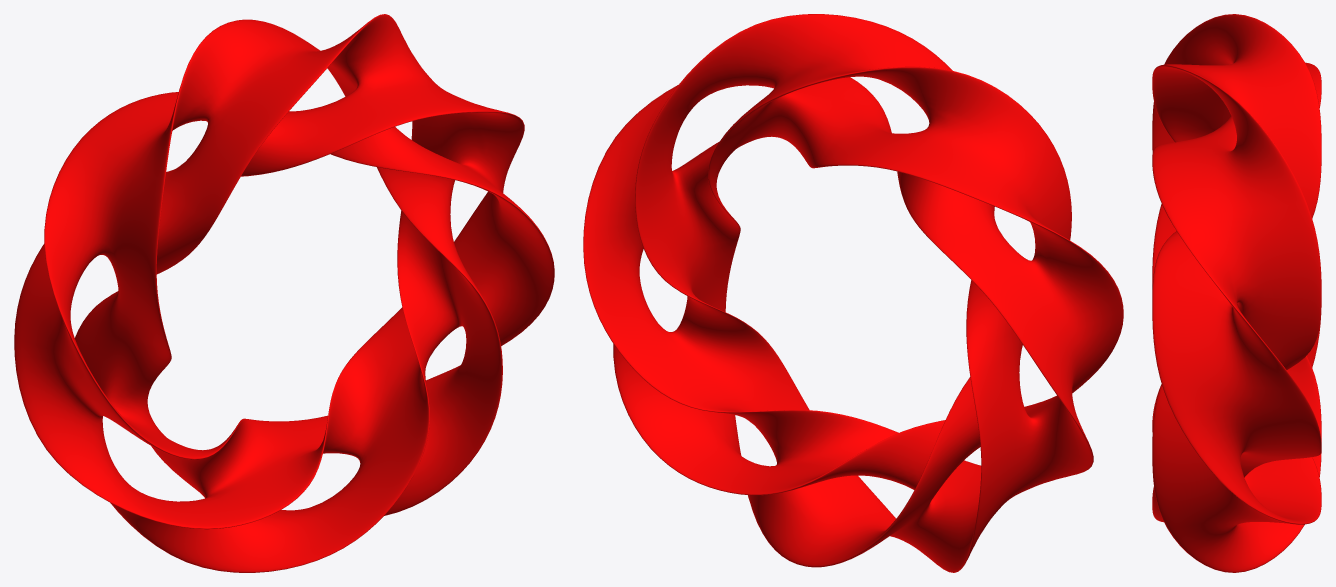
Rendered from Abstract_ring.fbx.
3 views of the same model, side by side, from view 1: azimuth 30°, elevation 25°; view 2: azimuth 150°, elevation 25°; view 3: azimuth 270°, elevation 25° (orthographic). The views are drawn at different scales.
Parts seen in each view (by area): view 1: Plane001; view 2: Plane001; view 3: Plane001.
Boxes of the visible parts, x1,y1,x2,y2 form: Plane001: (14, 14, 554, 572); Plane001: (583, 14, 1123, 572); Plane001: (1152, 14, 1321, 572).
Bounding box in the file's own units: 250 × 250 × 79.33.
